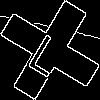L: (25, 25, 73, 78)
